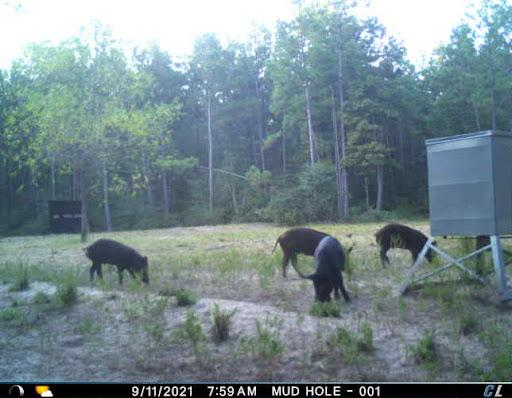Hog: (273, 226, 348, 290), (83, 238, 157, 291), (310, 236, 353, 312), (375, 221, 436, 270)
